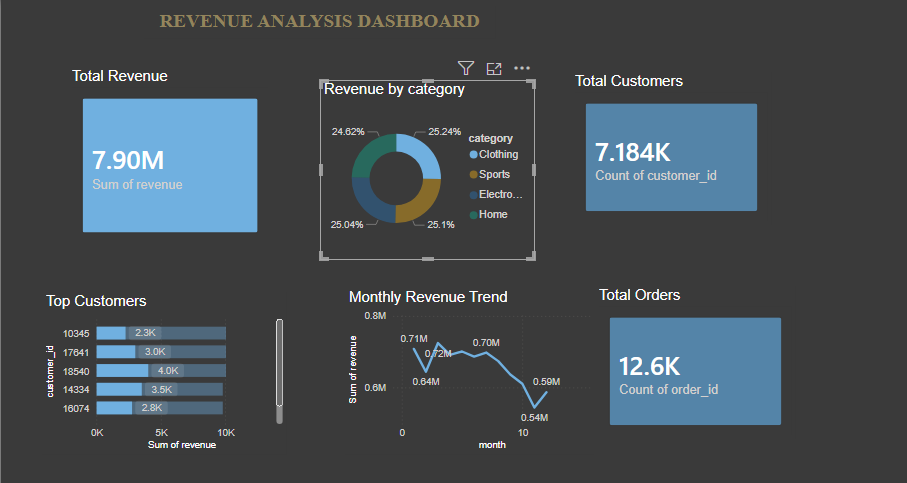

The dashboard page shown, as its layout file describes it:
{"tool":"powerbi","page":{"name":"Page 1","canvas":[1280,720],"ordinal":0},"visuals":[{"type":"cardVisual","title":"Total Revenue","fields":{"Data":["Sum(final_sales.revenue)"]},"box":[84,86,255,225],"z":0},{"type":"donutChart","title":"Revenue by category","fields":{"Category":["final_sales.category"],"Y":["Sum(final_sales.revenue)"]},"box":[398.8,102.5,268.8,225],"z":1000},{"type":"barChart","title":"Top Customers","fields":{"Category":["final_sales.customer_id"],"Y":["Sum(final_sales.revenue)"]},"box":[51,367,306,203],"z":2000},{"type":"lineChart","title":"Monthly Revenue Trend","fields":{"Y":["Sum(final_sales.revenue)"],"Category":["final_sales.month"]},"box":[430,362,312,208],"z":3000},{"type":"textbox","box":[179,10,439,41],"z":4000},{"type":"cardVisual","title":"Total Customers","fields":{"Data":["Count(final_sales.customer_id)"]},"box":[743.8,102.5,250,191.2],"z":5000},{"type":"cardVisual","title":"Total Orders","fields":{"Data":["Count(final_sales.order_id)"]},"box":[742,360,251,192],"z":6000}]}

Visuals, with their boxes on the page's 1280x720 design canvas (x1, y1, x2, y2). These are canvas units, not pixel positions in the 907x483 screenshot, which may show the page scaled, cropped or inside an application window:
"Total Revenue" cardVisual: (x1=84, y1=86, x2=339, y2=311)
"Revenue by category" donutChart: (x1=399, y1=102, x2=668, y2=328)
"Top Customers" barChart: (x1=51, y1=367, x2=357, y2=570)
"Monthly Revenue Trend" lineChart: (x1=430, y1=362, x2=742, y2=570)
textbox: (x1=179, y1=10, x2=618, y2=51)
"Total Customers" cardVisual: (x1=744, y1=102, x2=994, y2=294)
"Total Orders" cardVisual: (x1=742, y1=360, x2=993, y2=552)
